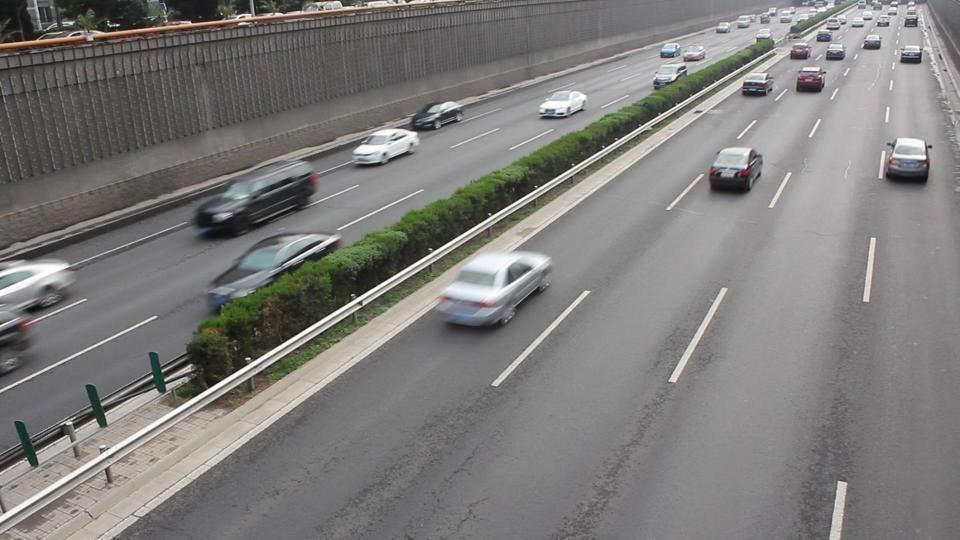car: (204, 231, 344, 313), (192, 157, 320, 240), (434, 248, 555, 329), (1, 259, 80, 315), (351, 127, 420, 168), (707, 146, 765, 193), (0, 305, 35, 371), (885, 138, 932, 182), (410, 101, 464, 130), (538, 90, 587, 119), (652, 62, 687, 89), (740, 73, 773, 97), (795, 67, 826, 92), (899, 42, 922, 63), (657, 41, 682, 60), (789, 43, 811, 59), (826, 44, 845, 60), (863, 34, 882, 50), (815, 30, 833, 43), (904, 12, 919, 27)
